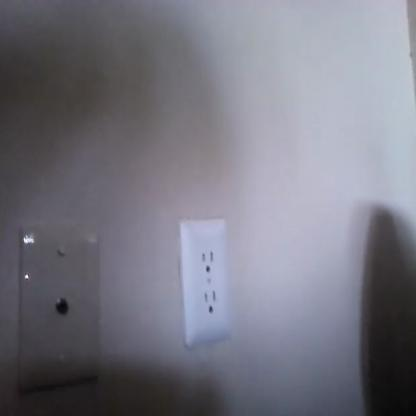OUTLET: (181, 219, 232, 346)
